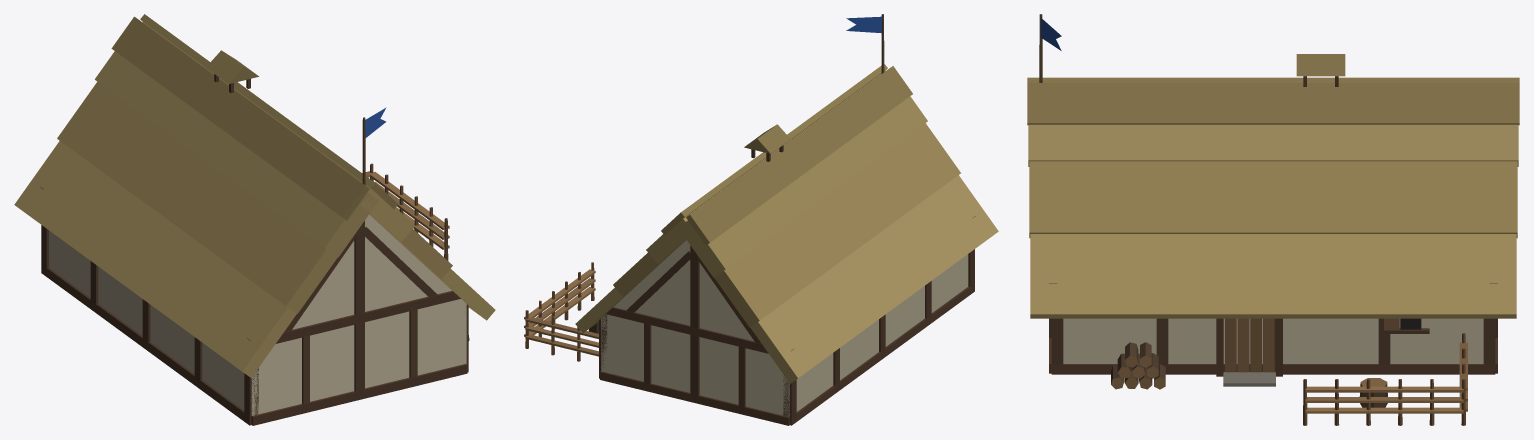
File: house.glb
3 renders of one model, left to right at view 1: azimuth 30°, elevation 25°; view 2: azimuth 150°, elevation 25°; view 3: azimuth 270°, elevation 25°, orthographic. The views are drawn at different scales.
Parts seen in each view (by area): view 1: house; view 2: house; view 3: house.
Part boxes in pixels (box(x1,y1,x2,y2)): house: box(14, 14, 495, 425); house: box(524, 14, 998, 425); house: box(1027, 14, 1519, 425).
Bounding box in the file's own units: 7.83 × 6.33 × 9.32.
